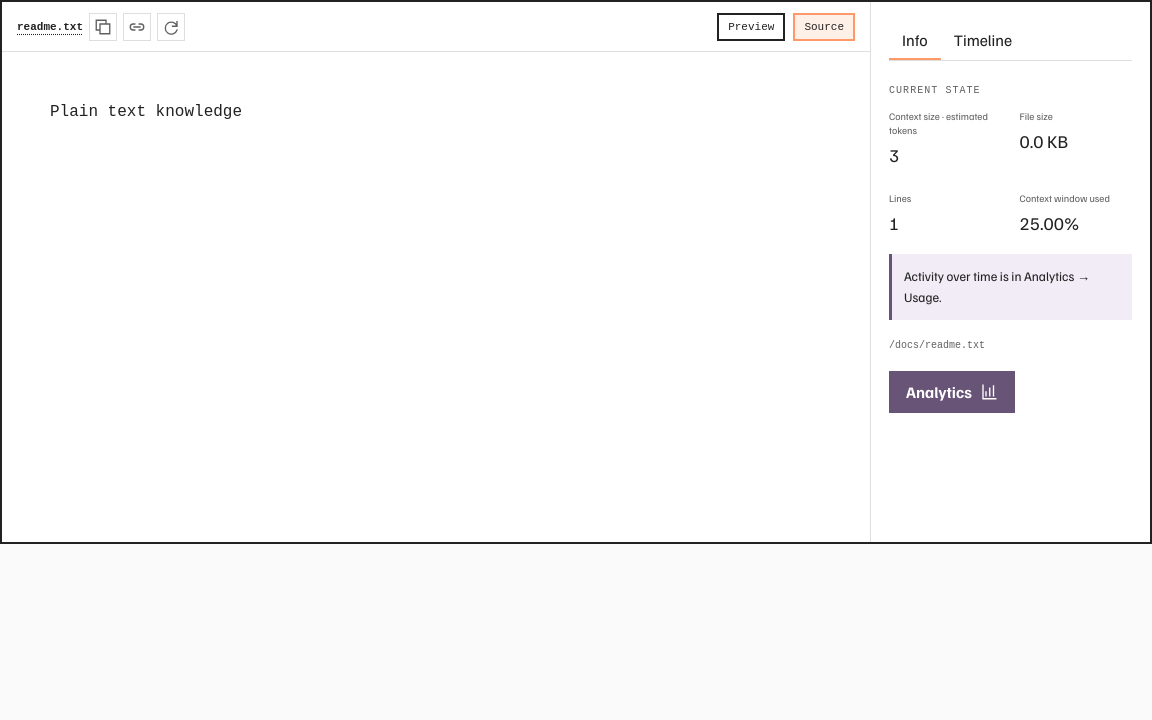
Scenario: refresh replaces stale file content in source mode
Expected: the text "Plain text knowledge" is shown, [50,103,242,121]
Click the button named "Refresh file".
click(171, 26)  # box [157,12,185,40]
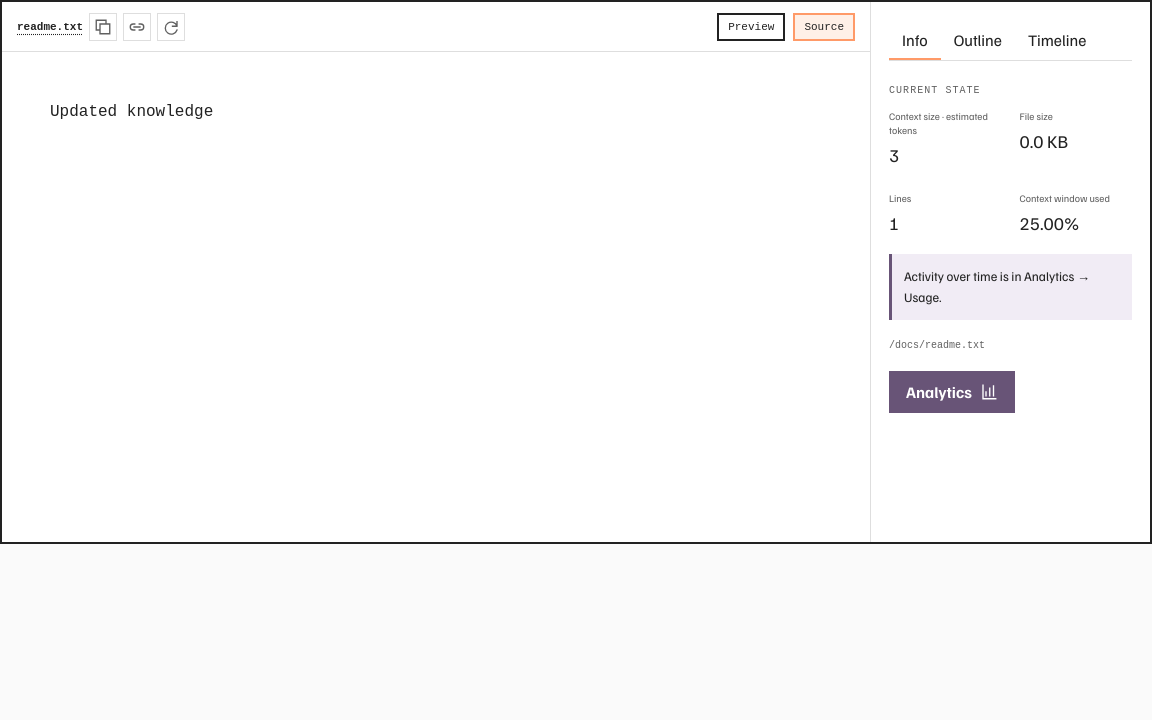
Result: the text "Updated knowledge" is shown at [50,103,213,121]
Result: the text "Plain text knowledge" is gone
